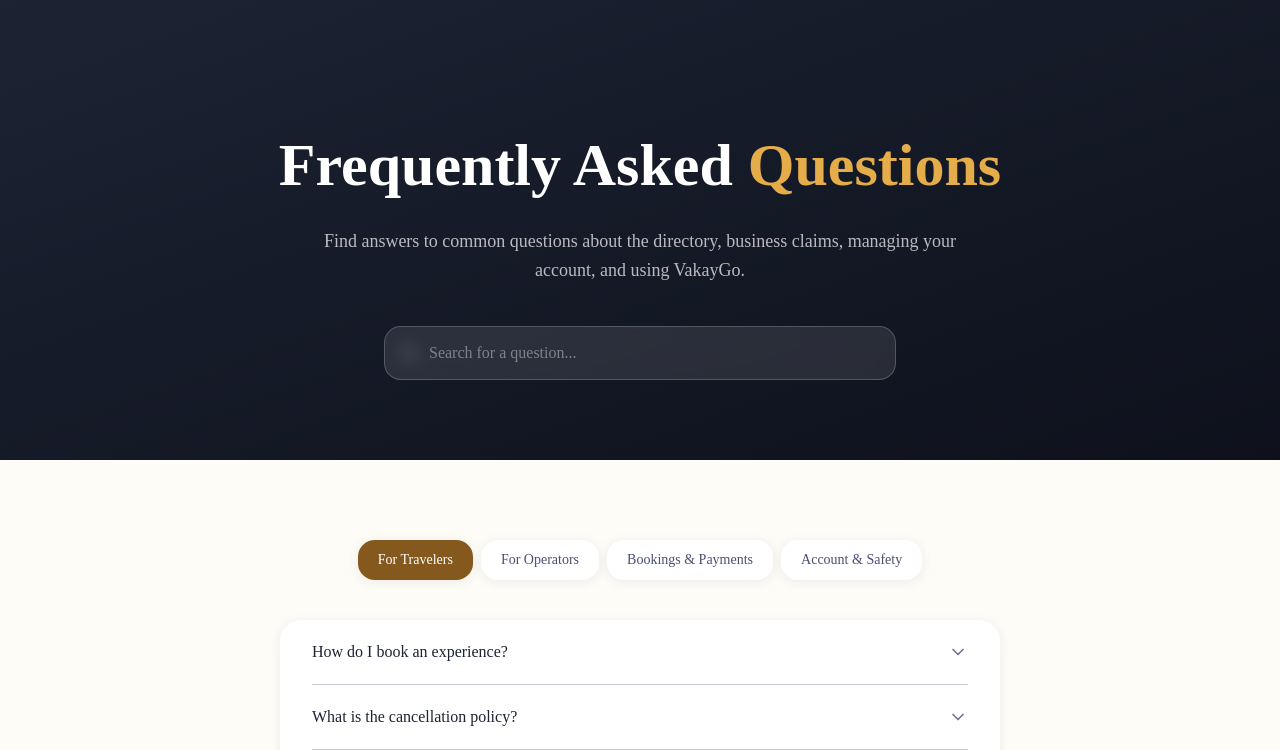
Test: exposes each expanded answer state and keeps its visible answer consistent with structured guidance
Click the button "How do I book an experience?" at coordinates (410, 651), box [312, 620, 968, 684]
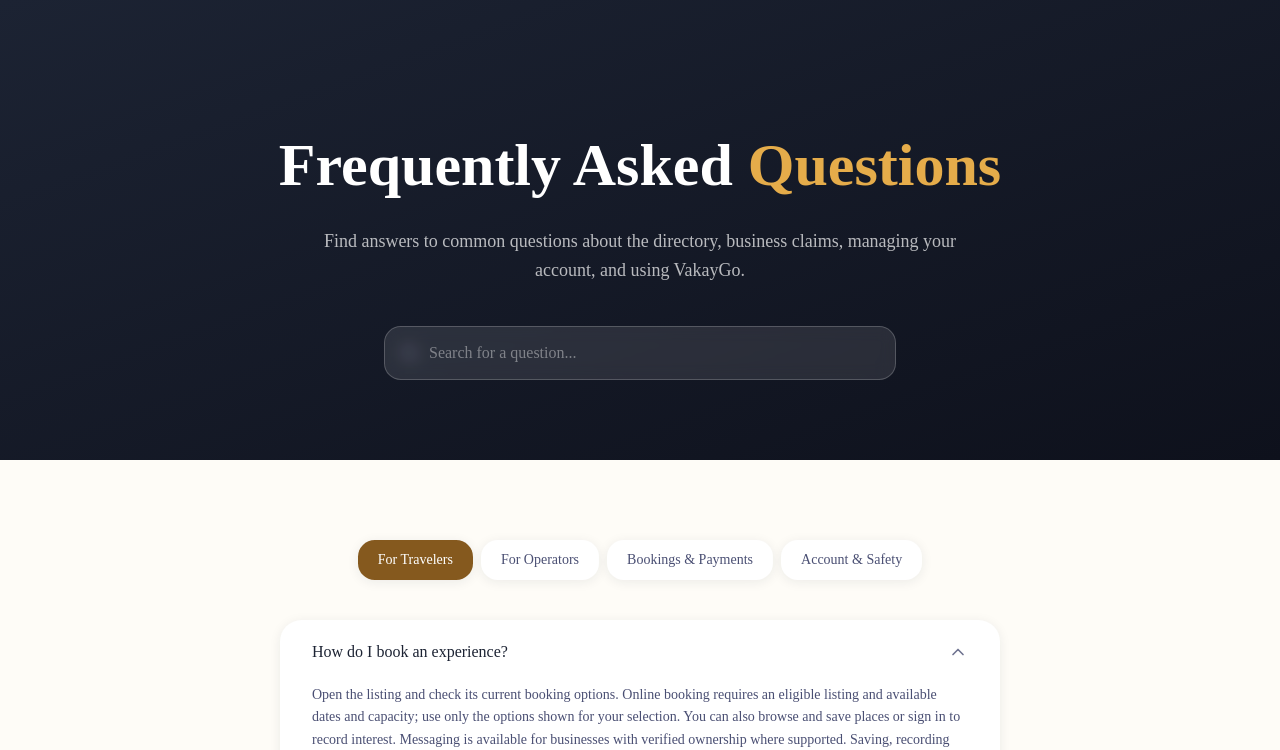
Now the button "How do I book an experience?" is expanded, box [312, 620, 968, 684]
